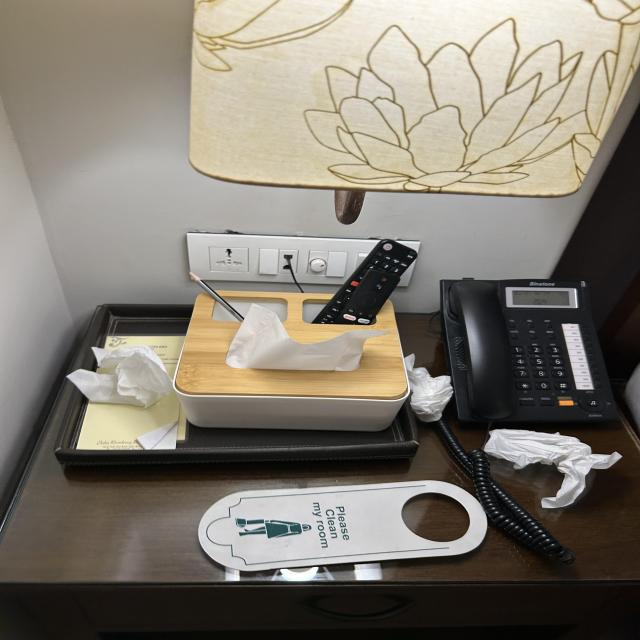mess: (0, 205, 640, 640)
